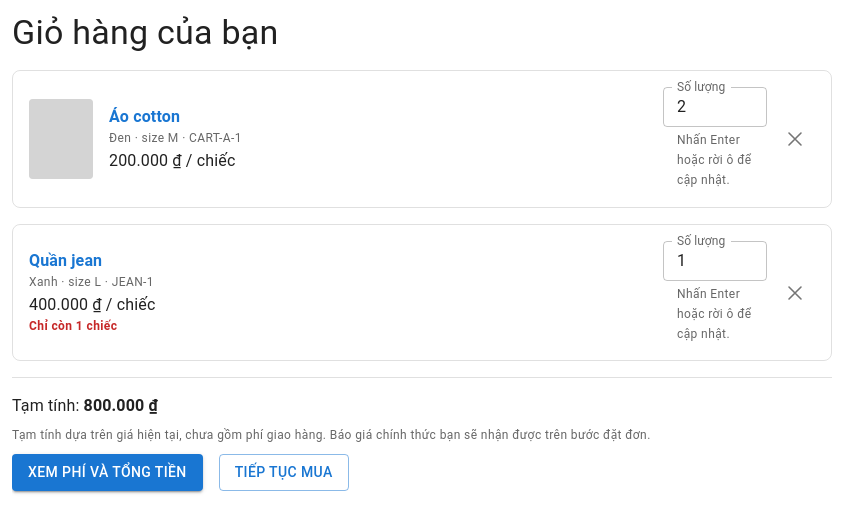
Test: cart page › applies a new quantity to the right row and recomputes the subtotal
The width and height of the screenshot is (849, 511).
Expected: the link "Áo cotton" is shown, [109, 107, 180, 126]
Replace the text in the field named "Số lượng của Áo cotton" with "3" at (715,107), box [663, 87, 767, 127]
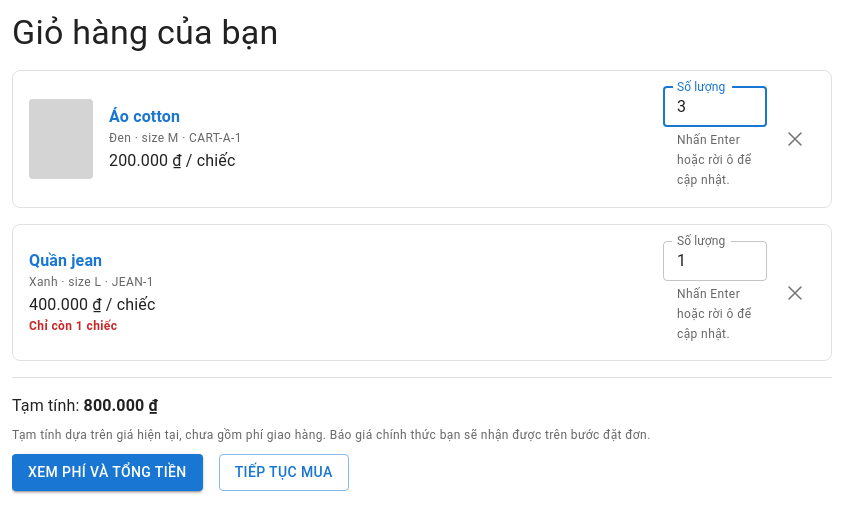
Press Tab
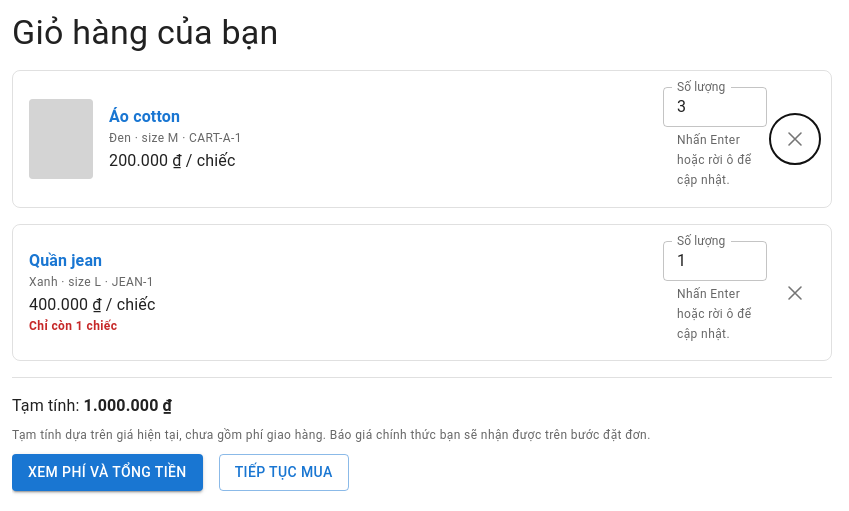
Expected: the text "Tạm tính: 1.000.000 ₫" is shown, [12, 396, 172, 415]
